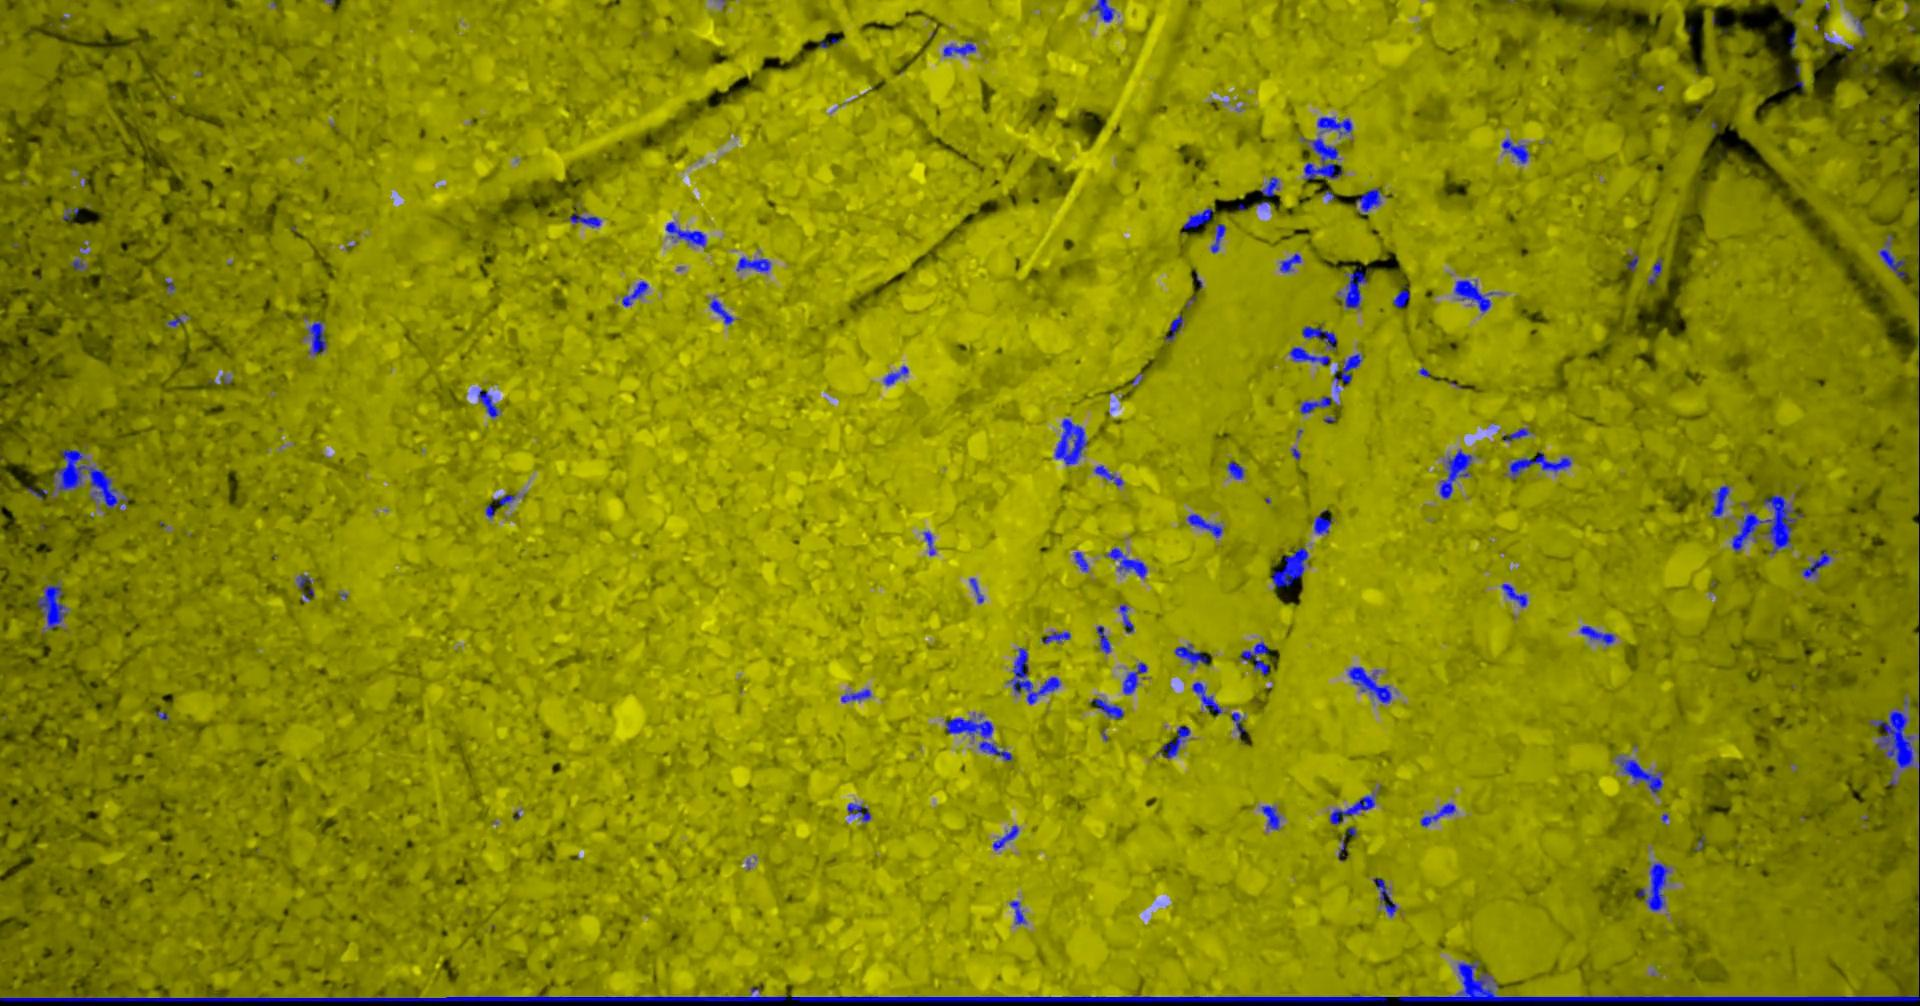ant: (946, 714, 1015, 760), (1010, 647, 1062, 702), (1510, 451, 1573, 479), (1618, 757, 1665, 793), (1349, 666, 1393, 702), (1441, 448, 1474, 498), (1305, 137, 1343, 179), (1638, 862, 1671, 911), (1057, 418, 1090, 465), (1272, 546, 1309, 587), (1331, 793, 1377, 824), (1455, 279, 1498, 312), (38, 583, 69, 629), (1105, 547, 1149, 577), (1335, 353, 1364, 391), (1192, 681, 1223, 716), (1881, 241, 1909, 278), (1341, 271, 1368, 307), (667, 222, 707, 246), (1242, 641, 1271, 674), (1163, 725, 1192, 758), (1303, 324, 1338, 351), (1374, 878, 1398, 916), (1189, 513, 1225, 537), (1422, 801, 1457, 826), (1124, 662, 1149, 694), (1183, 207, 1214, 232), (1291, 345, 1332, 365), (1176, 643, 1209, 666), (1803, 551, 1832, 577), (309, 319, 329, 354), (1356, 187, 1383, 213), (623, 279, 650, 306), (1581, 625, 1617, 644), (1503, 138, 1531, 163), (479, 387, 502, 417), (1091, 699, 1125, 718), (711, 297, 735, 324), (1318, 116, 1354, 133), (1096, 464, 1125, 485), (1338, 827, 1357, 860), (994, 826, 1020, 850), (1503, 583, 1529, 606), (1090, 0, 1116, 22), (1712, 485, 1730, 516), (1166, 312, 1185, 340), (945, 38, 977, 55), (1302, 396, 1333, 413), (885, 365, 909, 385), (1262, 805, 1283, 829), (738, 257, 772, 271), (571, 212, 602, 227), (1316, 509, 1335, 533), (850, 801, 872, 821), (1211, 224, 1227, 251), (842, 688, 872, 702), (1232, 713, 1247, 741), (1503, 427, 1533, 441), (1650, 257, 1663, 285), (1121, 605, 1135, 633), (1098, 625, 1112, 653), (1281, 253, 1302, 272), (1394, 285, 1411, 307), (1011, 901, 1027, 923), (1261, 177, 1280, 196), (27, 486, 55, 499), (971, 578, 985, 603), (1043, 631, 1072, 643), (1228, 461, 1246, 479), (1076, 551, 1090, 572), (924, 531, 936, 555), (495, 494, 517, 506), (1789, 29, 1798, 55), (298, 574, 312, 588), (1628, 255, 1641, 271), (63, 207, 80, 218), (72, 259, 86, 271)
